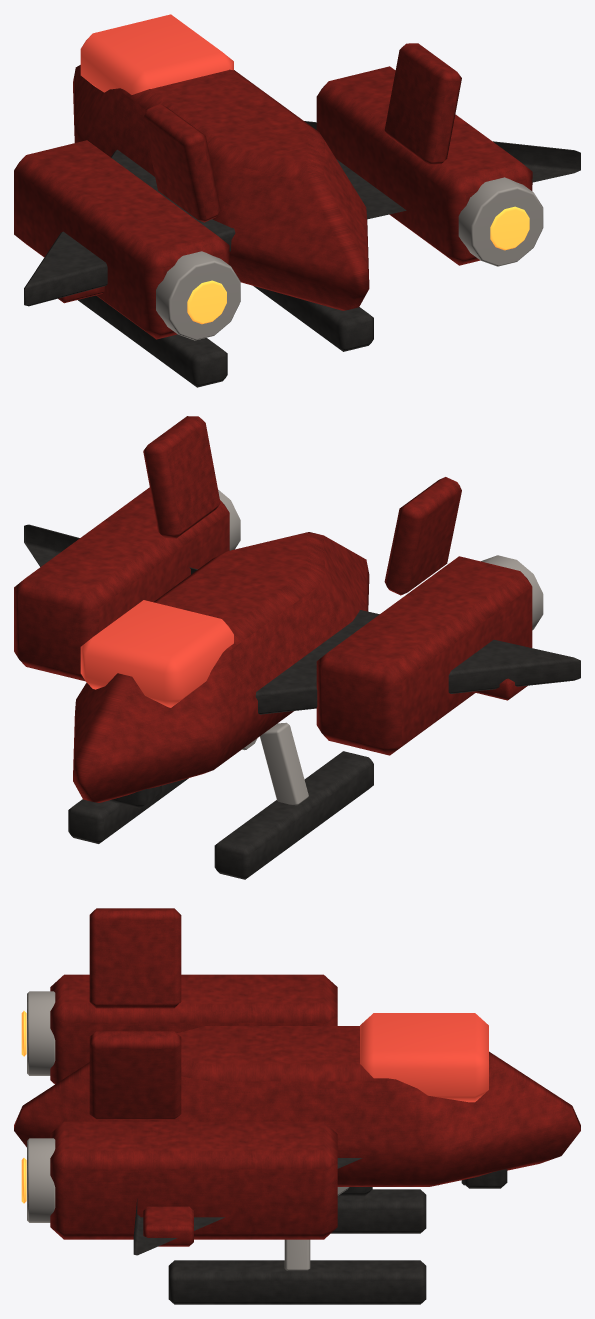
The model's file is kharn_aigle.gltf.
3 views of the same model, one above another, from view 1: azimuth 30°, elevation 25°; view 2: azimuth 150°, elevation 25°; view 3: azimuth 270°, elevation 25° (orthographic).
Parts seen in each view (by area): view 1: Root.001_Geometry; view 2: Root.001_Geometry, GunRecoil_Geometry; view 3: Root.001_Geometry, Flap_1_Geometry, GunRecoil_Geometry.
Boxes of the visible parts, x1=… form: Root.001_Geometry: x1=14, y1=14, x2=580, y2=387; Root.001_Geometry: x1=14, y1=416, x2=580, y2=879; GunRecoil_Geometry: x1=108, y1=785, x2=161, y2=808; Root.001_Geometry: x1=14, y1=908, x2=580, y2=1304; Flap_1_Geometry: x1=143, y1=1206, x2=193, y2=1246; GunRecoil_Geometry: x1=438, y1=1169, x2=507, y2=1188.
Size of the model in its own units: 3.27 by 1.65 by 2.9.
Materials: 6 (3 with a texture image).
